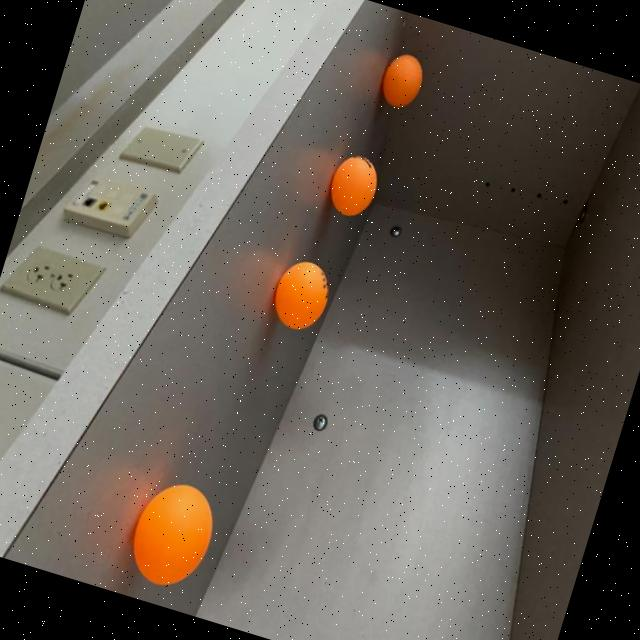ping-pong-ball: (117, 466, 228, 602), (261, 245, 341, 341), (318, 144, 387, 229), (372, 46, 432, 118)
